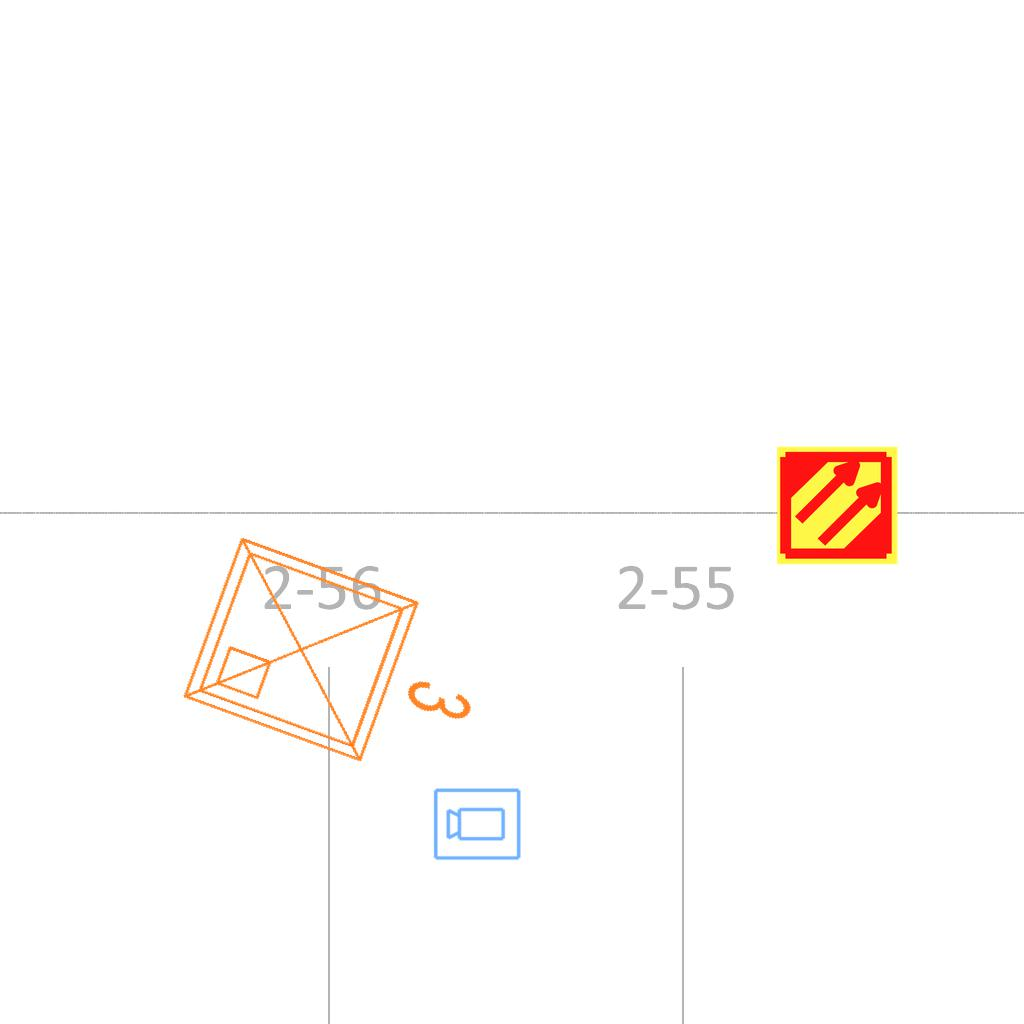ASR_Ansaugrauchmelder: (775, 443, 900, 568)
Einbaudownlights_LED_Konferenzraeume: (164, 510, 518, 810)
KFO_Kamera_mit_Festobjektiv: (432, 785, 523, 862)
